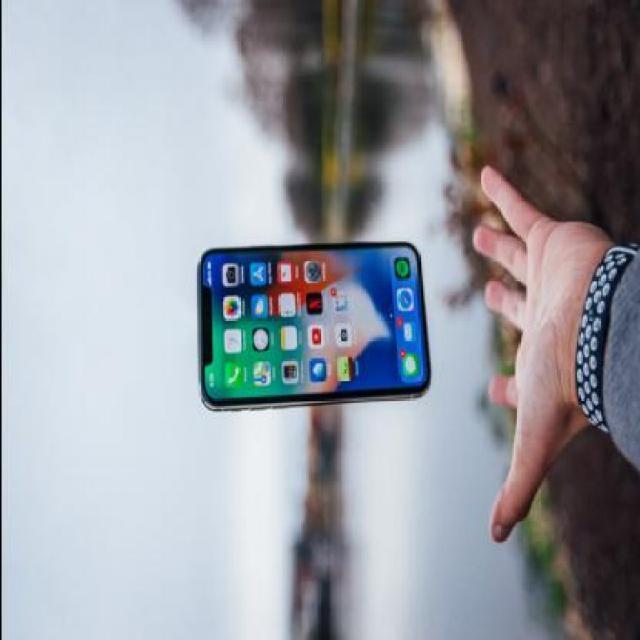phone: (196, 238, 433, 416)
